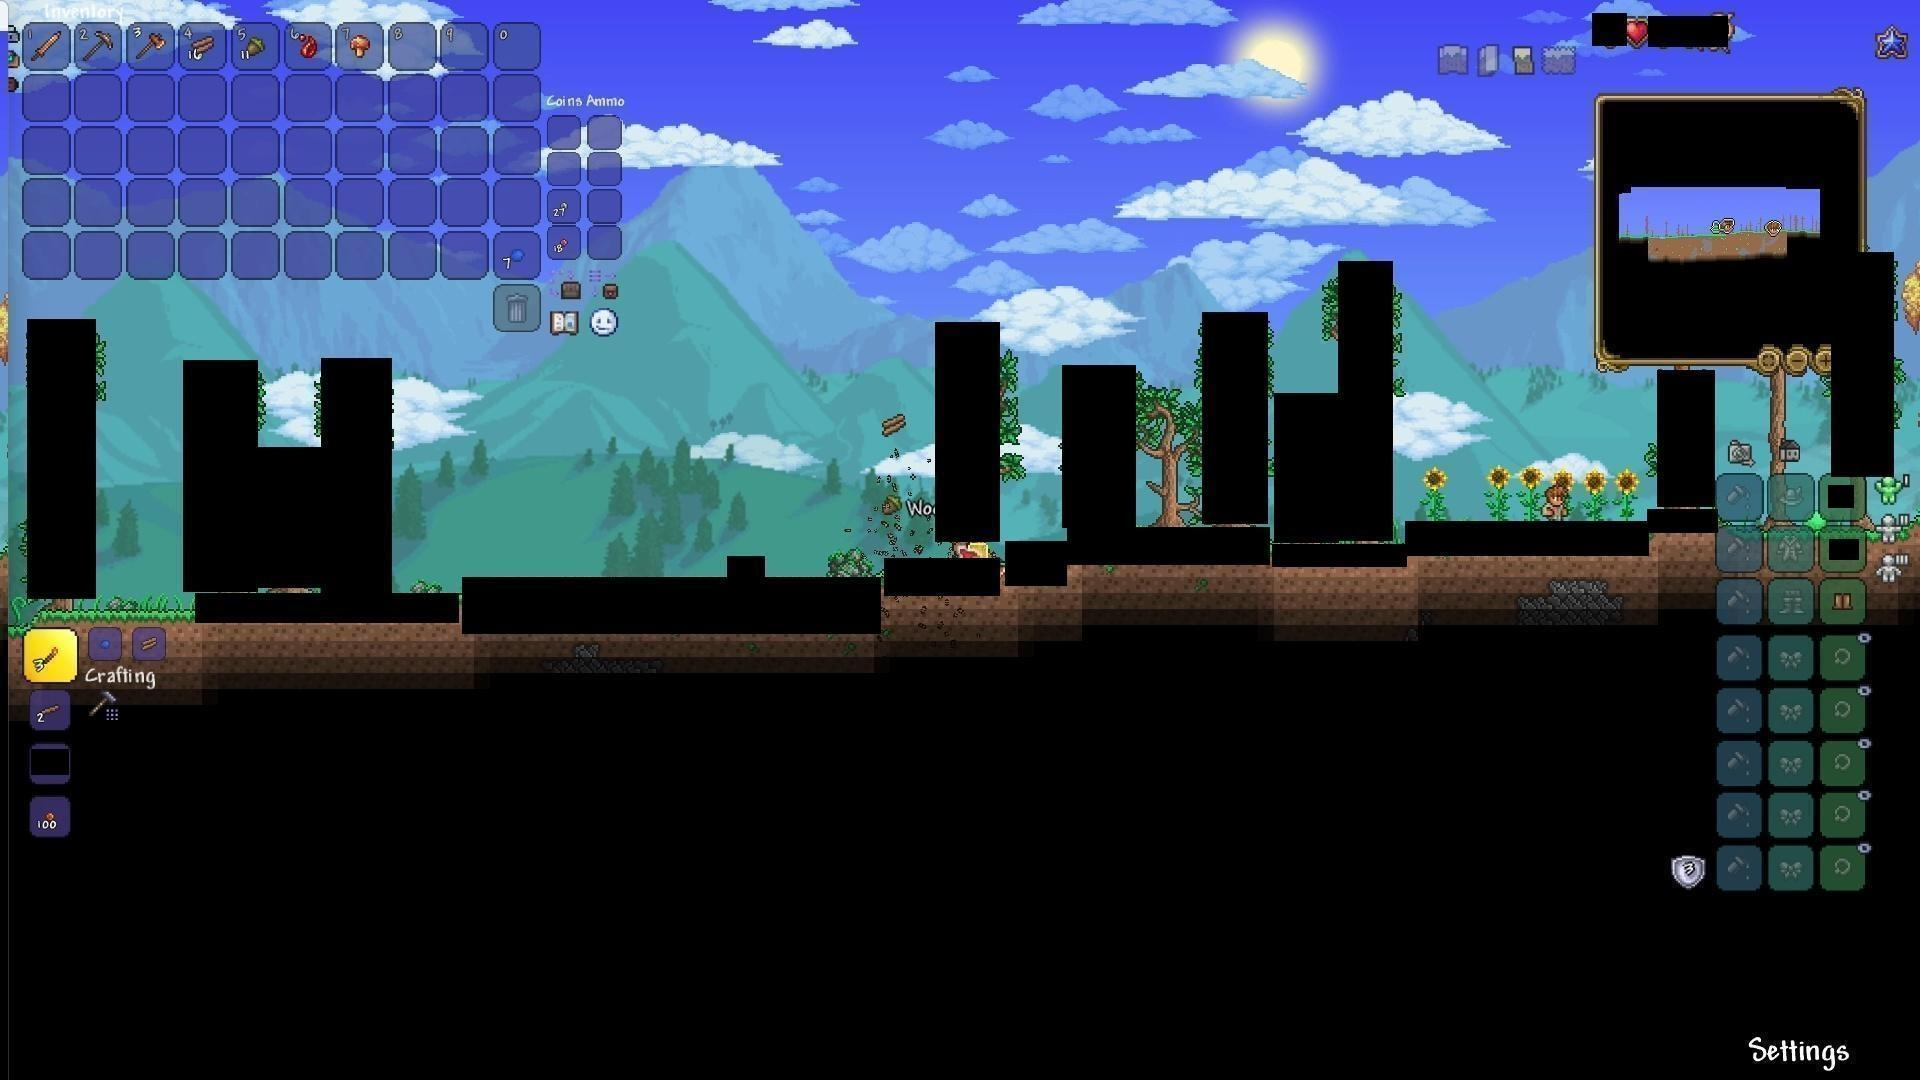dirt: (32, 603, 195, 628)
heart: (1621, 16, 1648, 46)
legs: (1830, 589, 1857, 615)
tree: (1135, 384, 1204, 526)
wood: (880, 413, 909, 440), (135, 632, 164, 659), (189, 34, 216, 61)
